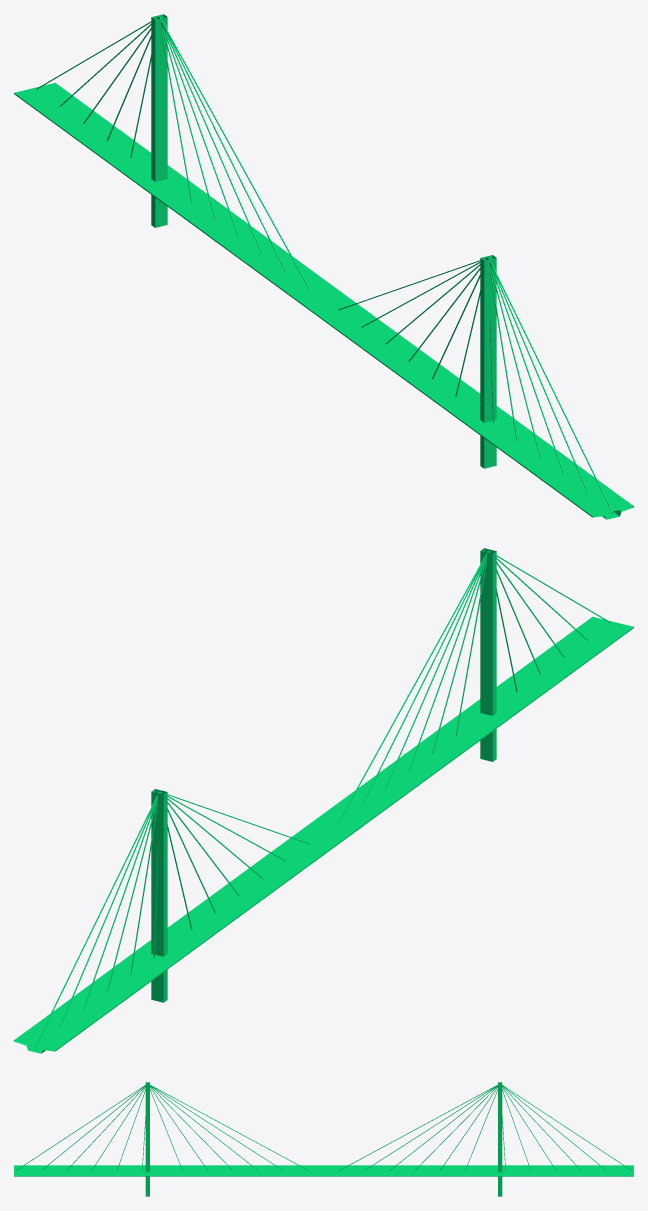
The model's file is Static.glb.
The picture shows the model from 3 angles, top to bottom: view 1: azimuth 30°, elevation 25°; view 2: azimuth 150°, elevation 25°; view 3: azimuth 270°, elevation 25°; orthographic projection. The views are drawn at different scales.
Parts seen in each view (by area): view 1: beam1_hull; view 2: beam1_hull; view 3: beam1_hull.
Part boxes in pixels (left/top/right/bottom): beam1_hull: left=14, top=14, right=633, bottom=519; beam1_hull: left=14, top=548, right=633, bottom=1053; beam1_hull: left=14, top=1082, right=633, bottom=1196.
Bounding box in the file's own units: 5 × 24.04 × 121.
